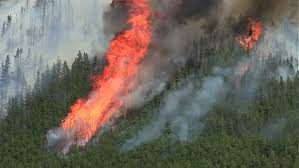fire: (62, 7, 153, 144)
